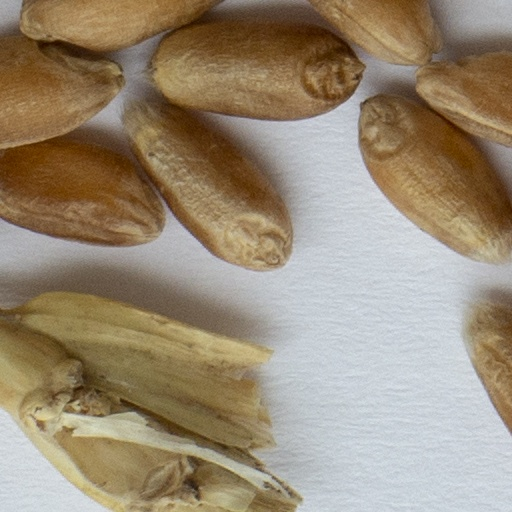Peel-poly: (0, 286, 306, 511)
